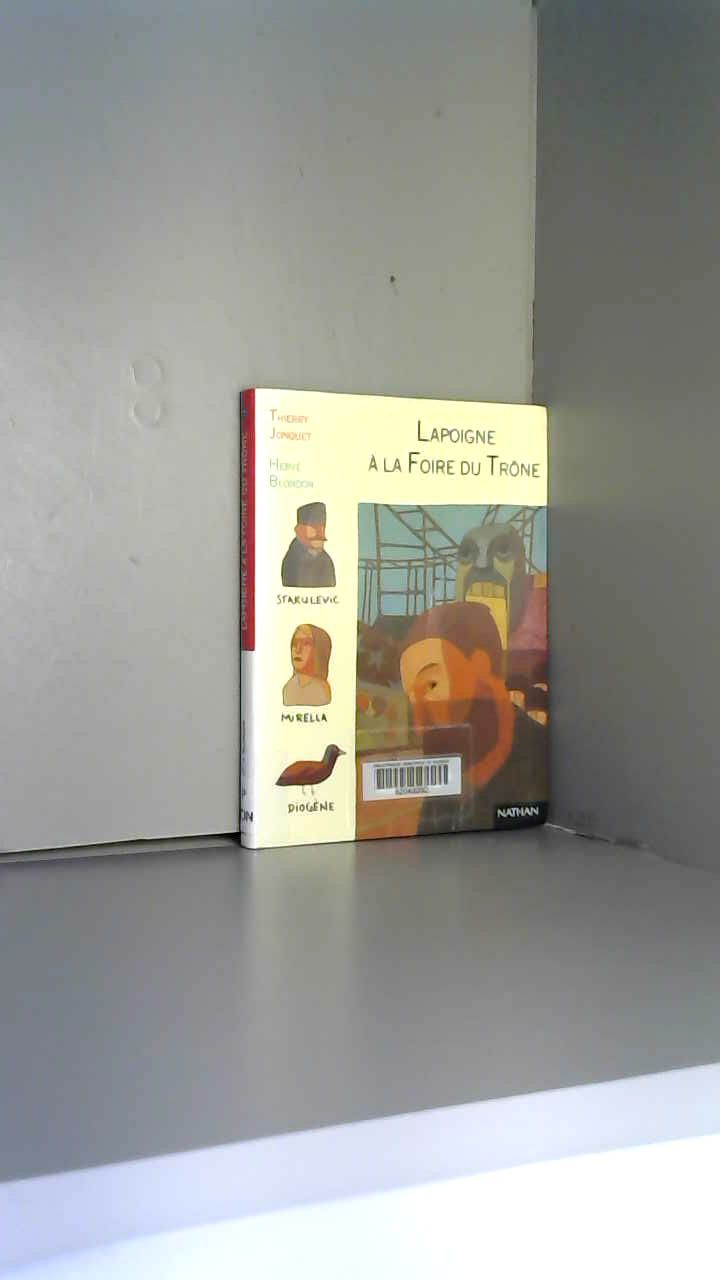book: (201, 351, 591, 895)
